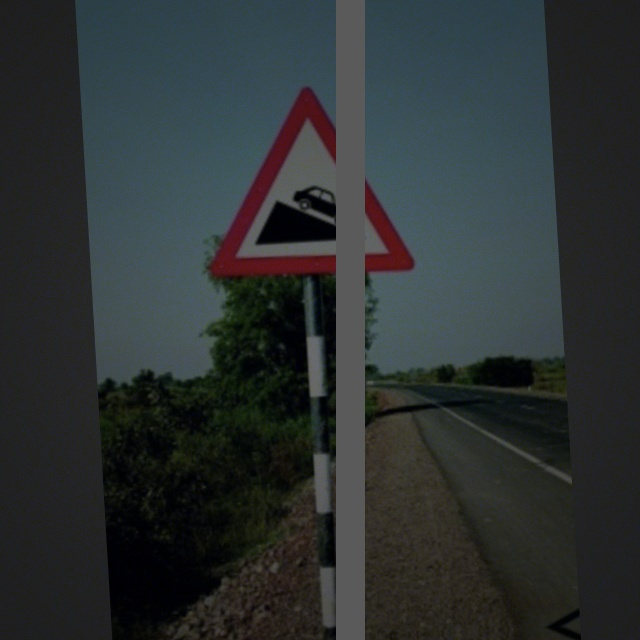Steep_Descent: (211, 79, 418, 281)
